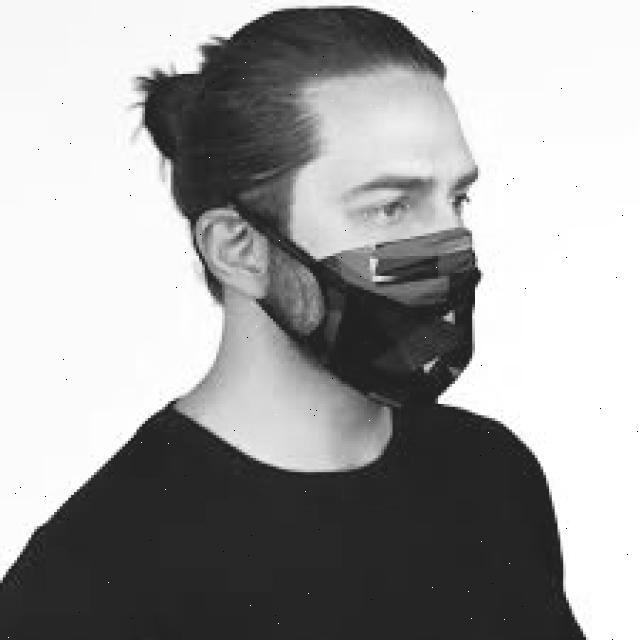fake: (297, 223, 488, 413)
real: (290, 70, 489, 425)
